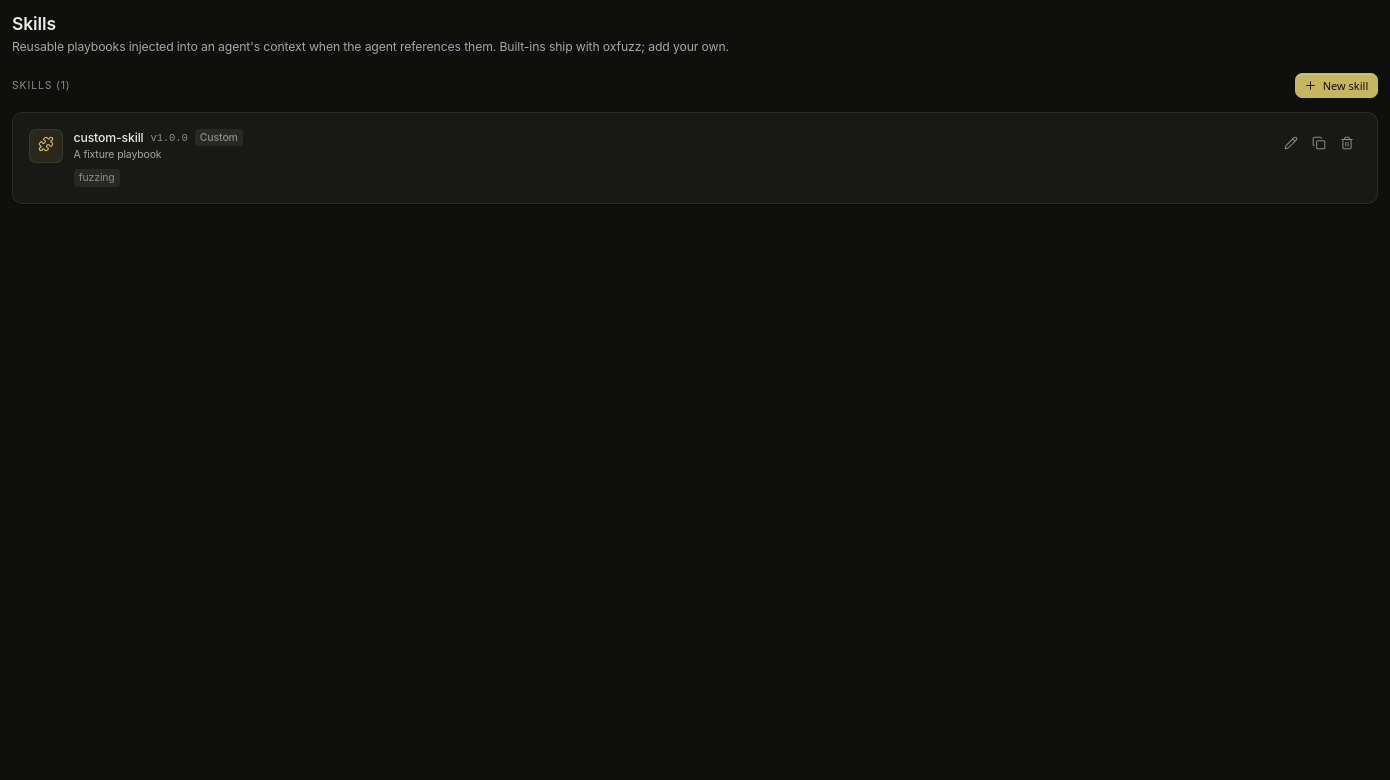
Scenario: prevents edits to submitted skills fields while saving
Click the button named "Edit".
click(1291, 143)  # box [1277,129,1305,157]
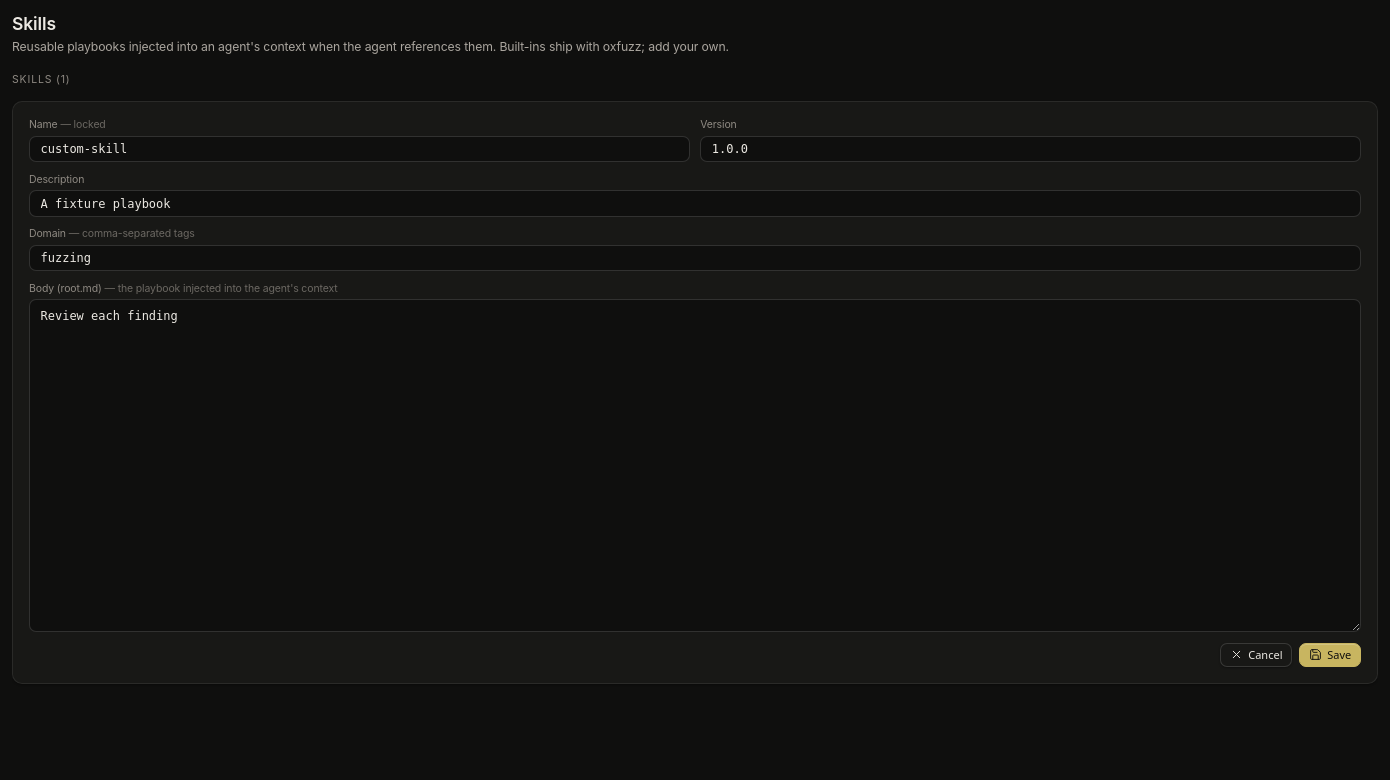
Check: the button "Save" is shown
Click the button "Save".
click(1330, 655)  # box [1299,642,1361,667]
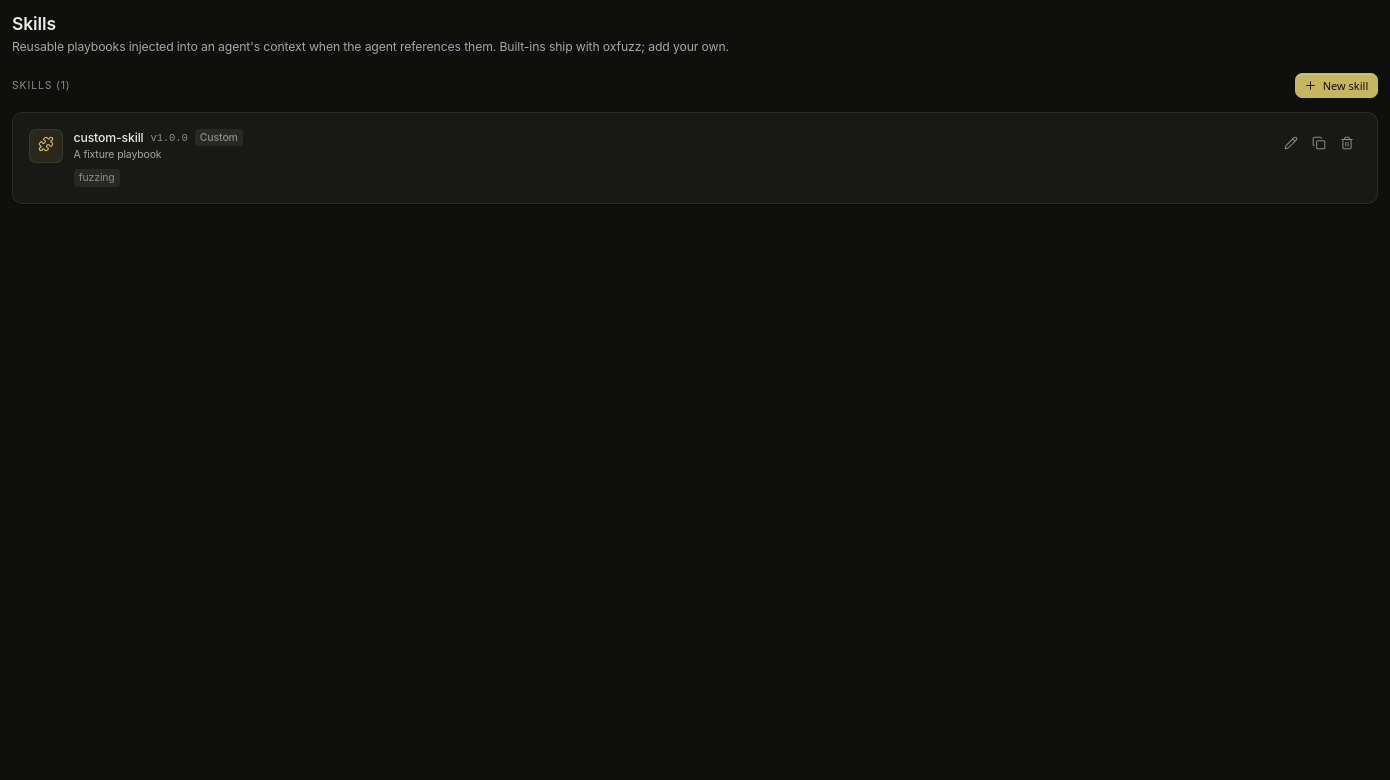
Check: the button "New skill" is enabled, box [1295,73,1378,98]
